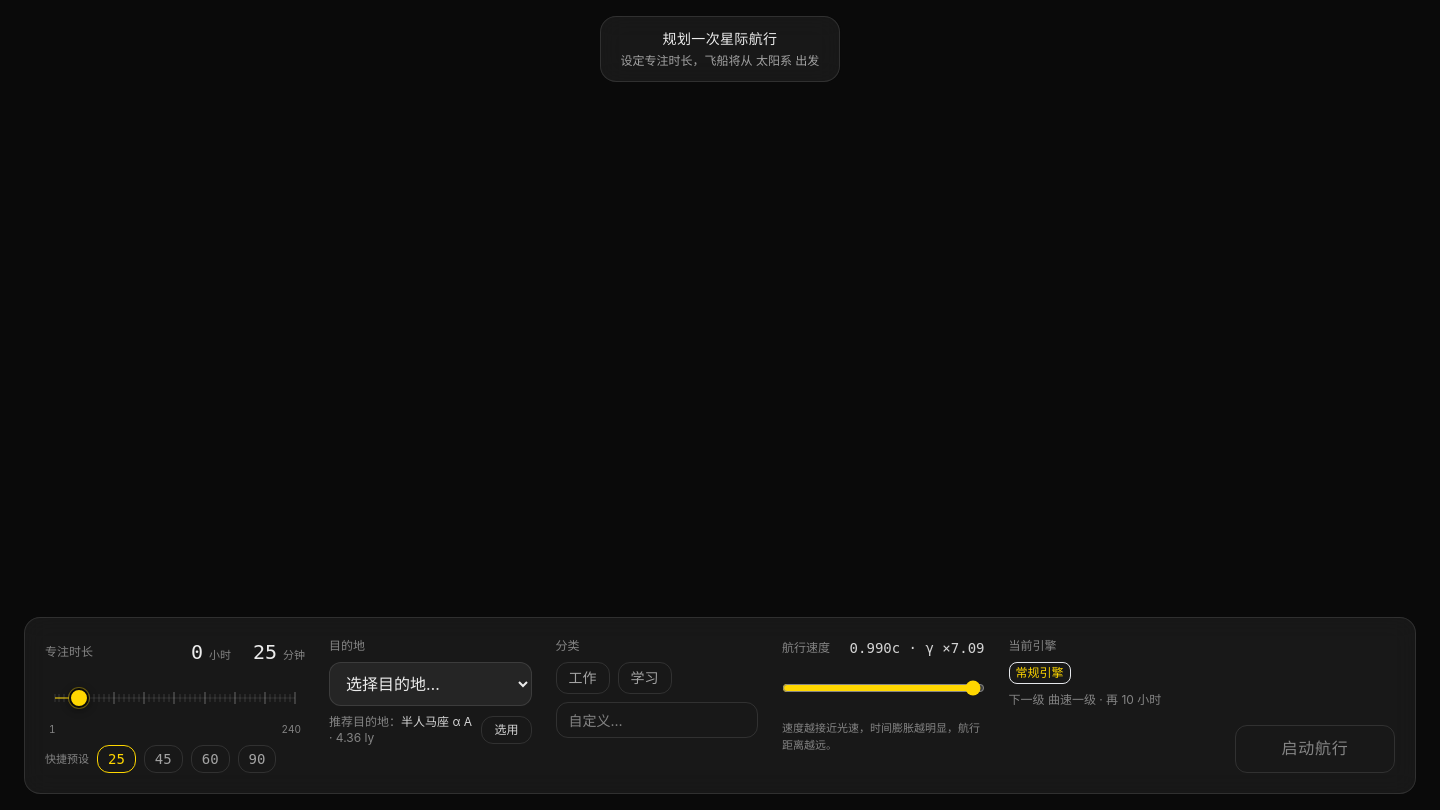
Test case: SetupPanel › 选中目的地后不再显示推荐
Select "比邻星 Proxima Centauri · 4.25 ly" in the dropdown labelled "目的地" at (430,684), box [329,662,532,706]
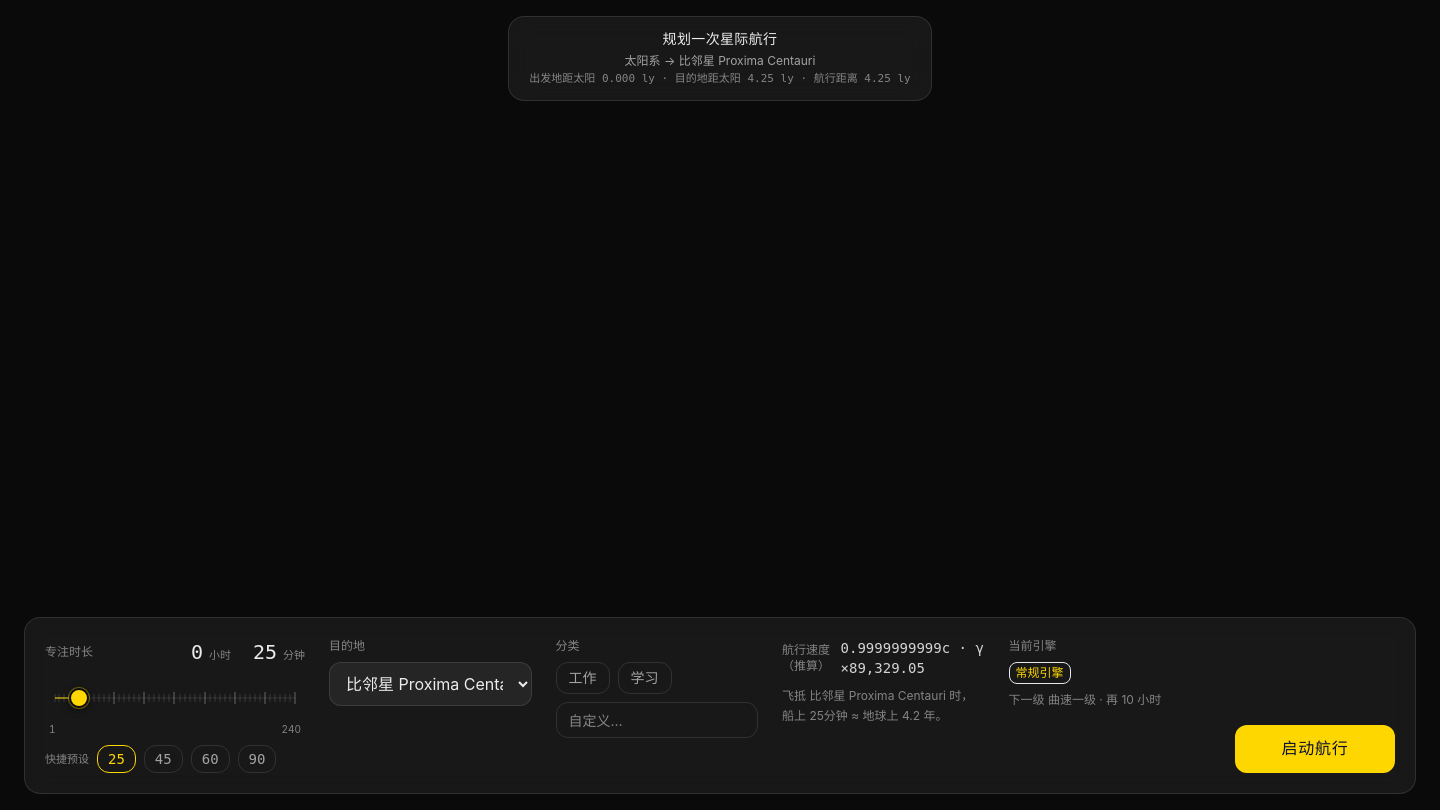
Expected: the text "推荐目的地" is gone
